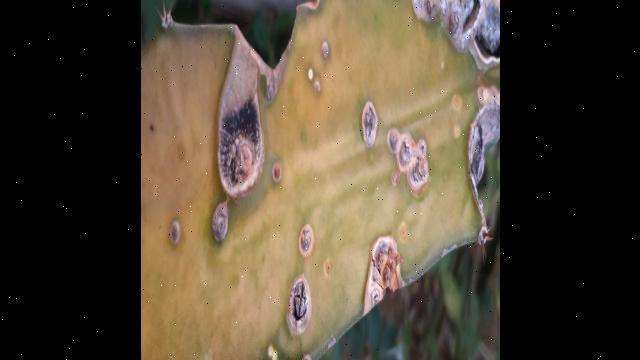stemcanker: (279, 30, 460, 344), (156, 207, 199, 277)
